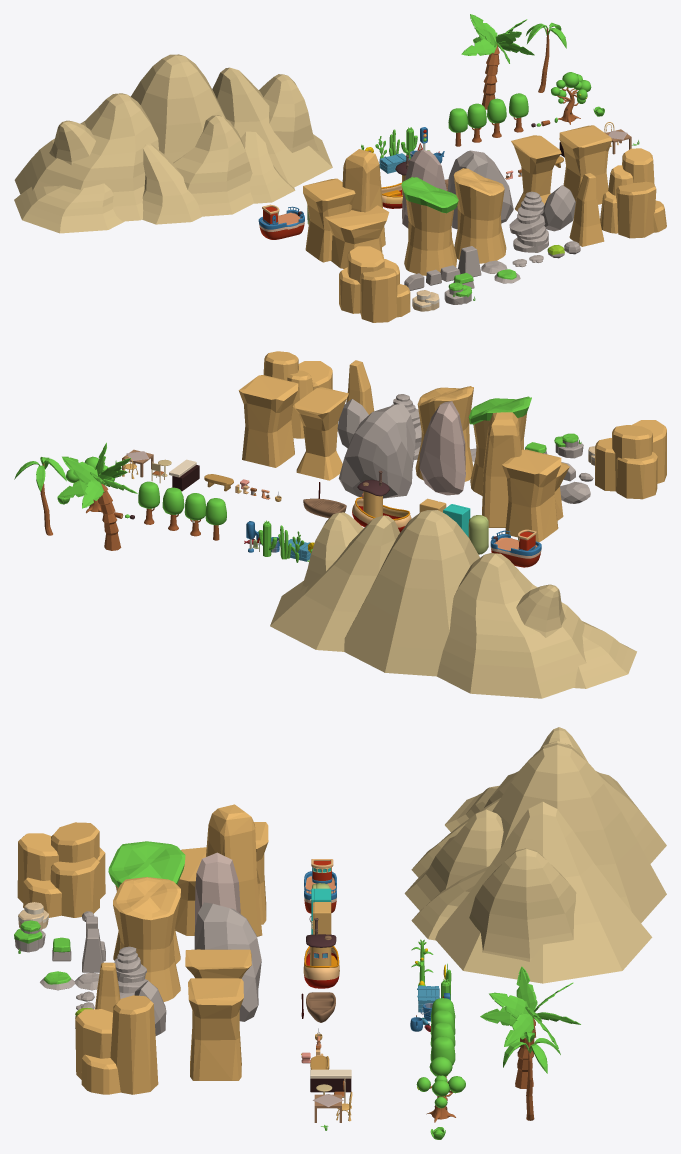
File: Props.fbx
The picture shows the model from 3 angles, top to bottom: view 1: azimuth 30°, elevation 25°; view 2: azimuth 150°, elevation 25°; view 3: azimuth 270°, elevation 25°; orthographic projection. The views are drawn at different scales.
Parts seen in each view (by area): view 1: Mountain01, Rock02, Rock08, Rock03, Rock01, Rock04, Rock07, Rock06, Tree07, Rock05, Rock09, Stone18 (+13 smaller); view 2: Mountain01, Rock02, Stone18, Rock01, Rock07, Rock06, Stone19, Tree07, Rock08, Rock03, Rock04, Boat01 (+14 smaller); view 3: Mountain01, Rock08, Rock01, Rock02, Rock04, Rock07, Stone18, Tree07, Rock03, Stone19, Rock06, Boat01 (+10 smaller).
Part boxes in pixels (left/top/right/bottom): Mountain01: left=14, top=54, right=332, bottom=233; Rock02: left=303, top=149, right=389, bottom=268; Rock08: left=600, top=148, right=666, bottom=238; Rock03: left=401, top=177, right=458, bottom=275; Rock01: left=339, top=246, right=410, bottom=322; Rock04: left=453, top=168, right=506, bottom=263; Rock07: left=559, top=125, right=611, bottom=204; Rock06: left=511, top=135, right=561, bottom=211; Tree07: left=461, top=14, right=534, bottom=109; Rock05: left=509, top=191, right=548, bottom=252; Rock09: left=569, top=173, right=604, bottom=246; Stone18: left=448, top=150, right=513, bottom=229; Mountain01: left=270, top=510, right=636, bottom=698; Rock02: left=482, top=412, right=569, bottom=542; Stone18: left=338, top=403, right=415, bottom=498; Rock01: left=595, top=420, right=666, bottom=499; Rock07: left=238, top=375, right=298, bottom=467; Rock06: left=293, top=387, right=348, bottom=480; Stone19: left=419, top=401, right=465, bottom=495; Tree07: left=57, top=442, right=137, bottom=550; Rock08: left=263, top=351, right=332, bottom=438; Rock03: left=468, top=396, right=531, bottom=495; Rock04: left=415, top=386, right=473, bottom=481; Boat01: left=352, top=470, right=411, bottom=532; Mountain01: left=404, top=727, right=666, bottom=983; Rock08: left=75, top=995, right=158, bottom=1094; Rock01: left=17, top=822, right=105, bottom=917; Rock02: left=175, top=804, right=268, bottom=936; Rock04: left=113, top=877, right=180, bottom=1001; Rock07: left=188, top=978, right=243, bottom=1080; Stone18: left=194, top=902, right=261, bottom=1021; Tree07: left=480, top=966, right=580, bottom=1088; Rock03: left=108, top=841, right=185, bottom=963; Stone19: left=195, top=852, right=240, bottom=929; Rock06: left=185, top=949, right=251, bottom=978; Boat01: left=303, top=918, right=339, bottom=988.
Size of the model in its own units: 32.24 by 6.85 by 25.64.
